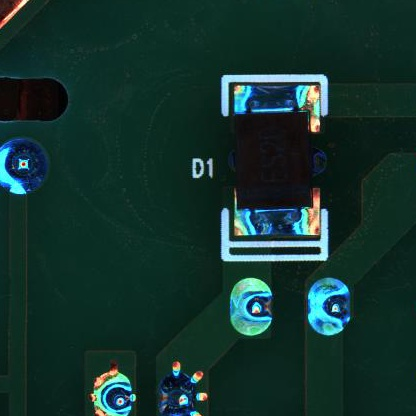spot: (154, 362, 213, 416), (87, 360, 138, 416), (1, 137, 50, 195), (229, 277, 275, 338), (306, 276, 351, 337)
